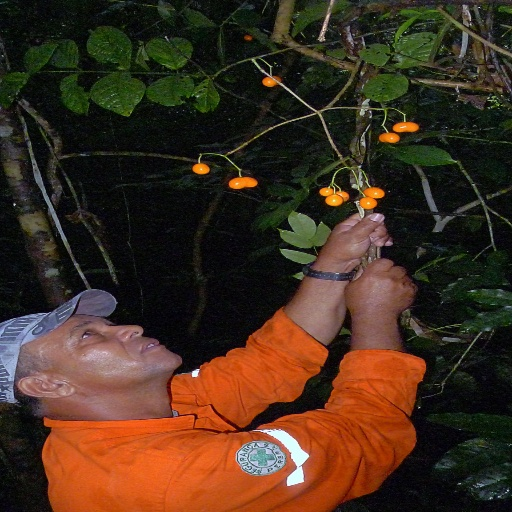hand: (311, 211, 400, 278), (341, 256, 418, 316)
